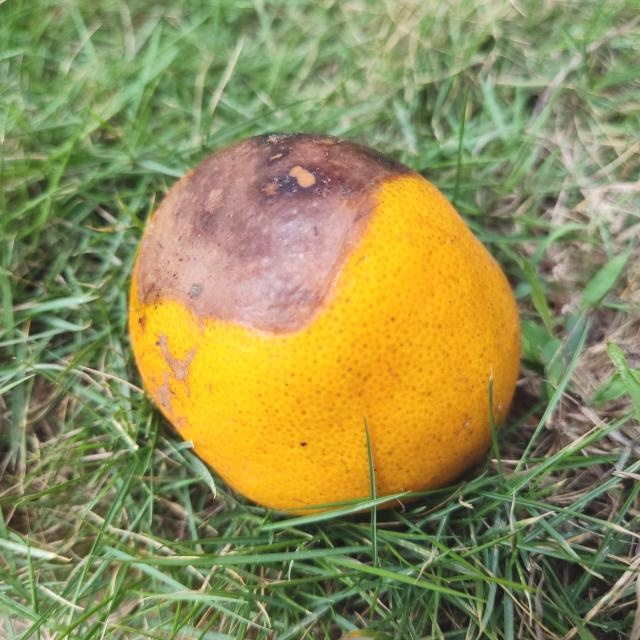agrume: (122, 130, 521, 514)
